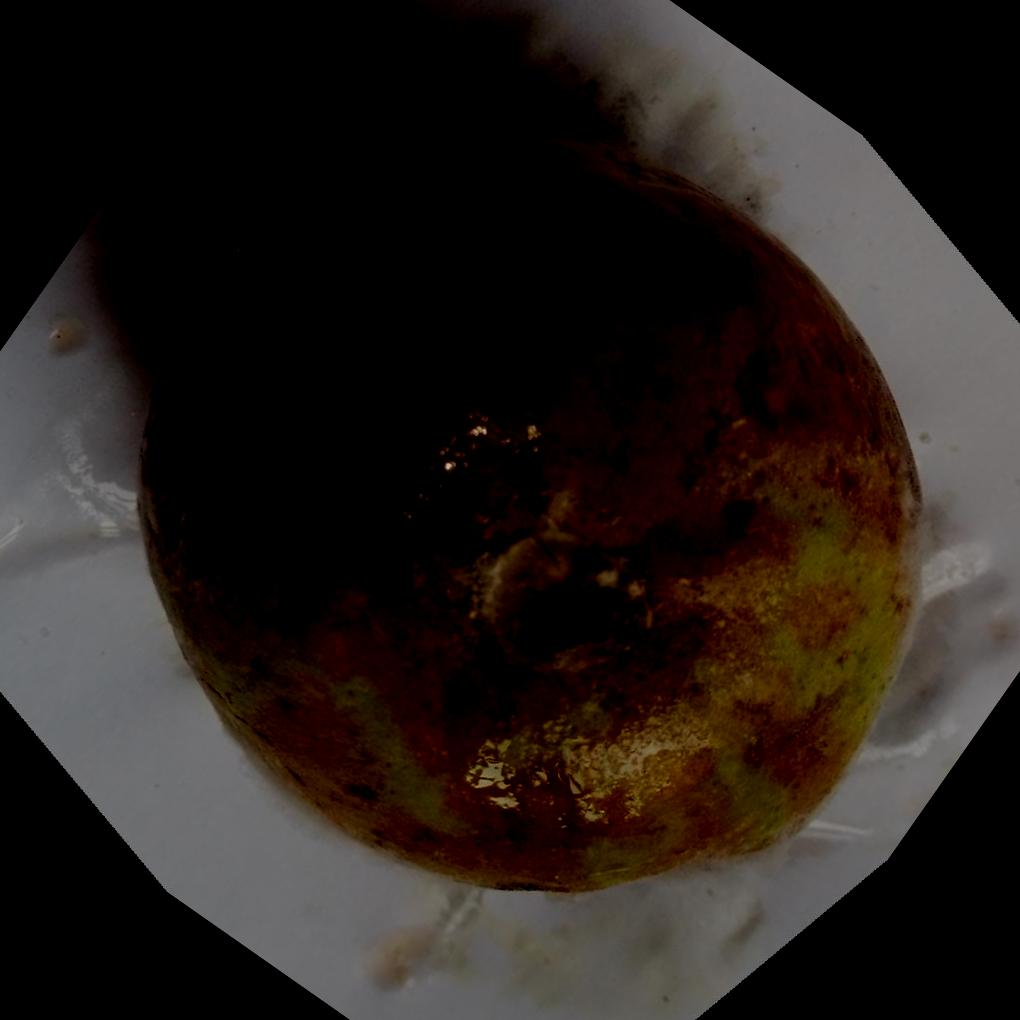FreshOrange: (135, 113, 924, 894)
